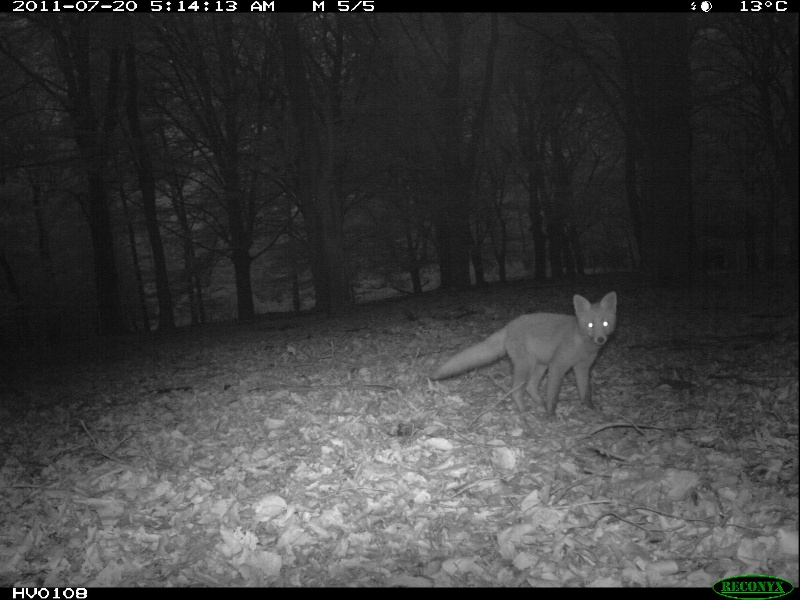fox: (427, 289, 625, 426)
